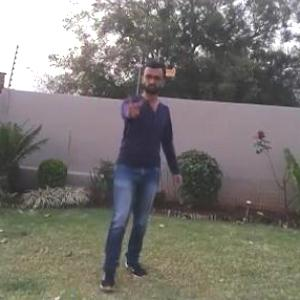takeoff-hand: (118, 94, 147, 122)
